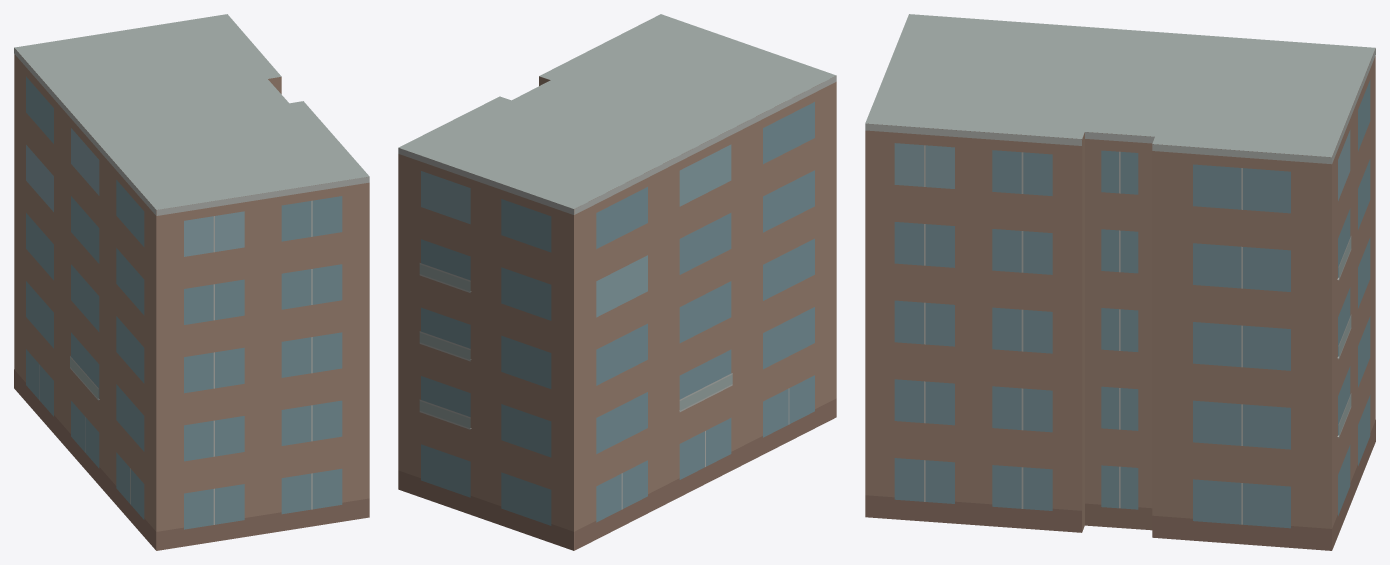
Rendered from survey-upis-32529065.glb.
3 renders of one model, left to right at view 1: azimuth 30°, elevation 25°; view 2: azimuth 150°, elevation 25°; view 3: azimuth 270°, elevation 25°, orthographic. The views are drawn at different scales.
Parts seen in each view (by area): view 1: survey-upis-32529065.tmp; view 2: survey-upis-32529065.tmp; view 3: survey-upis-32529065.tmp.
Boxes of the visible parts, box(x1,y1,x2,y2) form: survey-upis-32529065.tmp: box(14, 14, 369, 550); survey-upis-32529065.tmp: box(398, 14, 836, 550); survey-upis-32529065.tmp: box(865, 14, 1375, 550).
Bounding box in the file's own units: 10.78 × 13.8 × 16.24.
